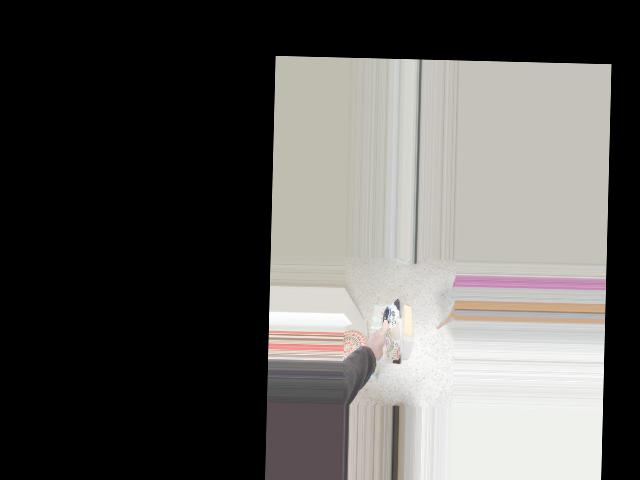cheese: (365, 296, 431, 372)
